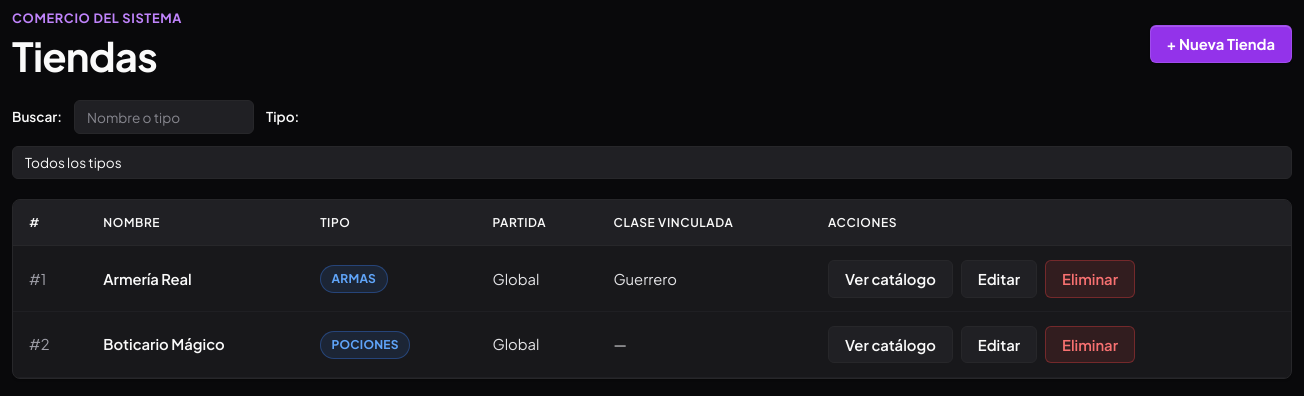
TiendasPage › permite filtrar tiendas por búsqueda de texto y tipo
Expected: the text "Armería Real" is shown, [87,246,304,312]
In the search field with placeholder "Nombre o tipo": (164,117) [74,100,254,134], type "Armería"
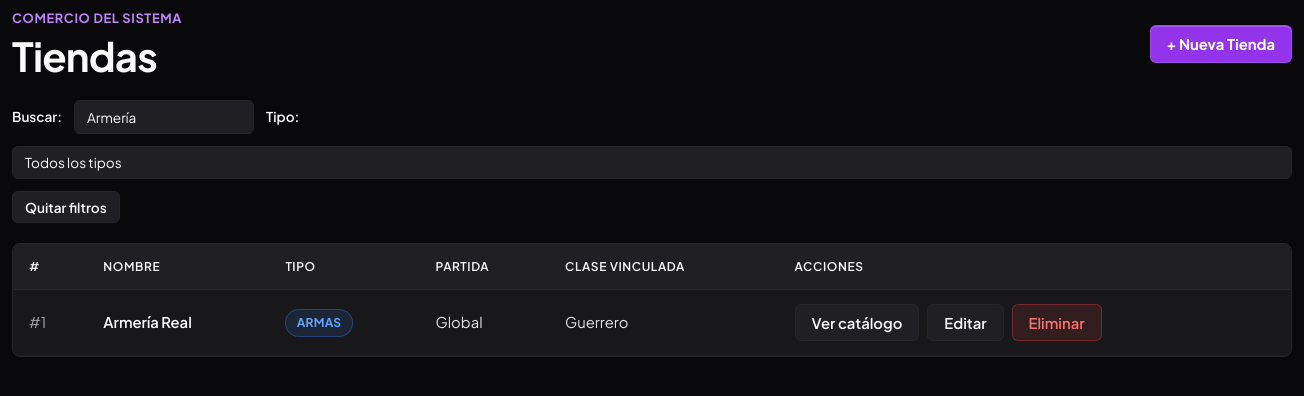
Expected: the text "Armería Real" is shown, [87,290,269,356]
Expected: the text "Boticario Mágico" is gone
